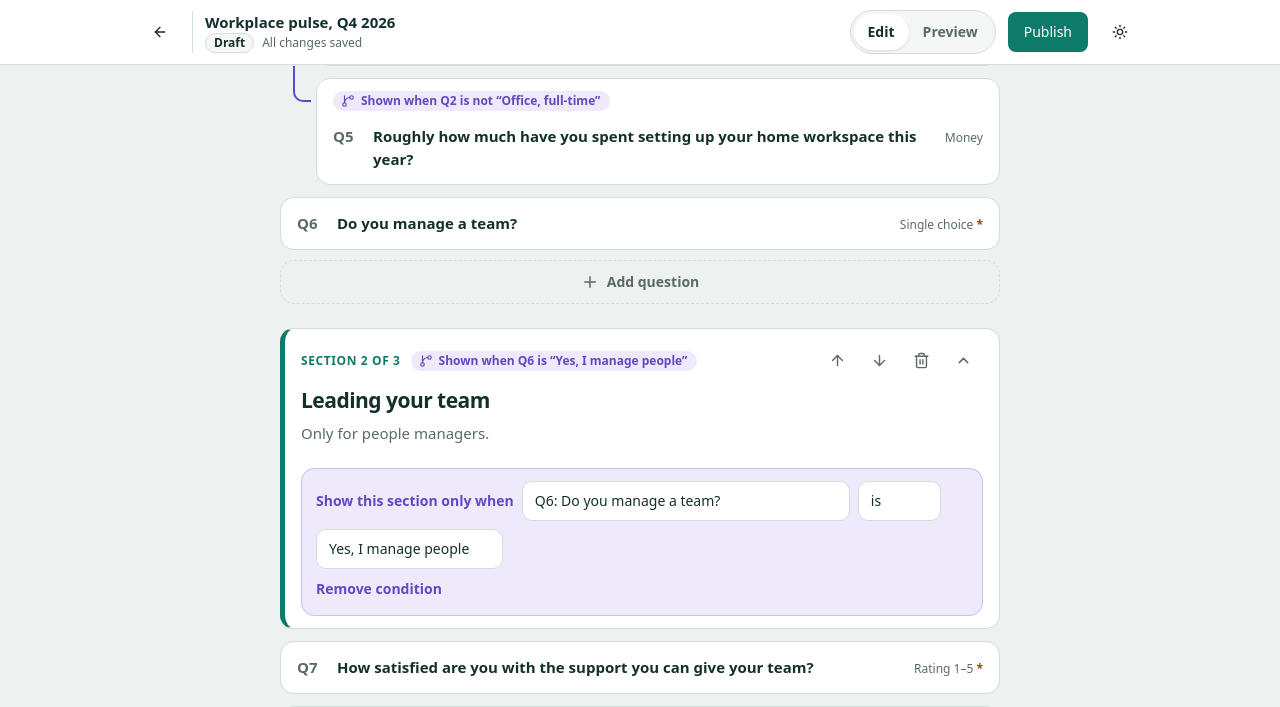
Test: builder with the sample loaded › deletes a section with Undo; its questions move up
(page scrolled)
Click the button named "Delete Leading your team". click: (921, 360)
box: left=901, top=340, right=941, bottom=380
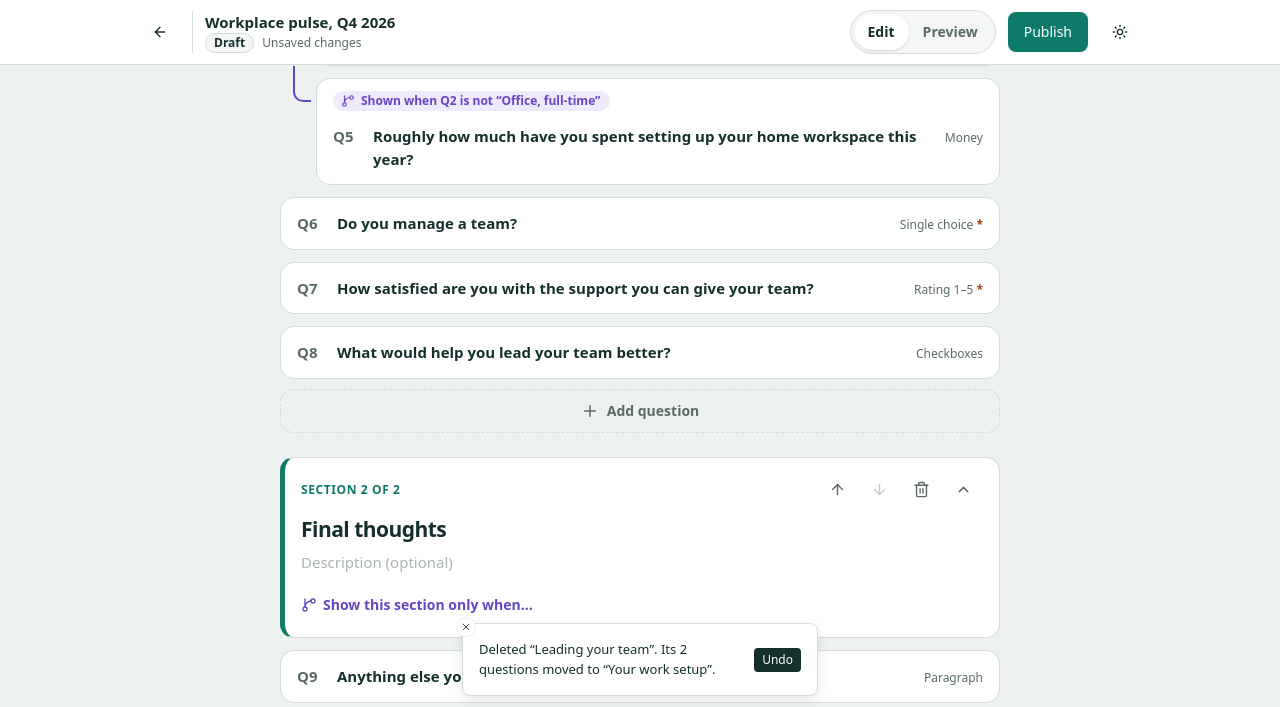
Expected: the text "Deleted “Leading your team”. Its 2 questions moved to “Your work setup”." is shown, left=479, top=640, right=748, bottom=679
Expected: the text "Section 2 of 2" is shown, left=301, top=482, right=400, bottom=498
Click the button "Undo". click: (778, 660)
box: left=754, top=648, right=801, bottom=672
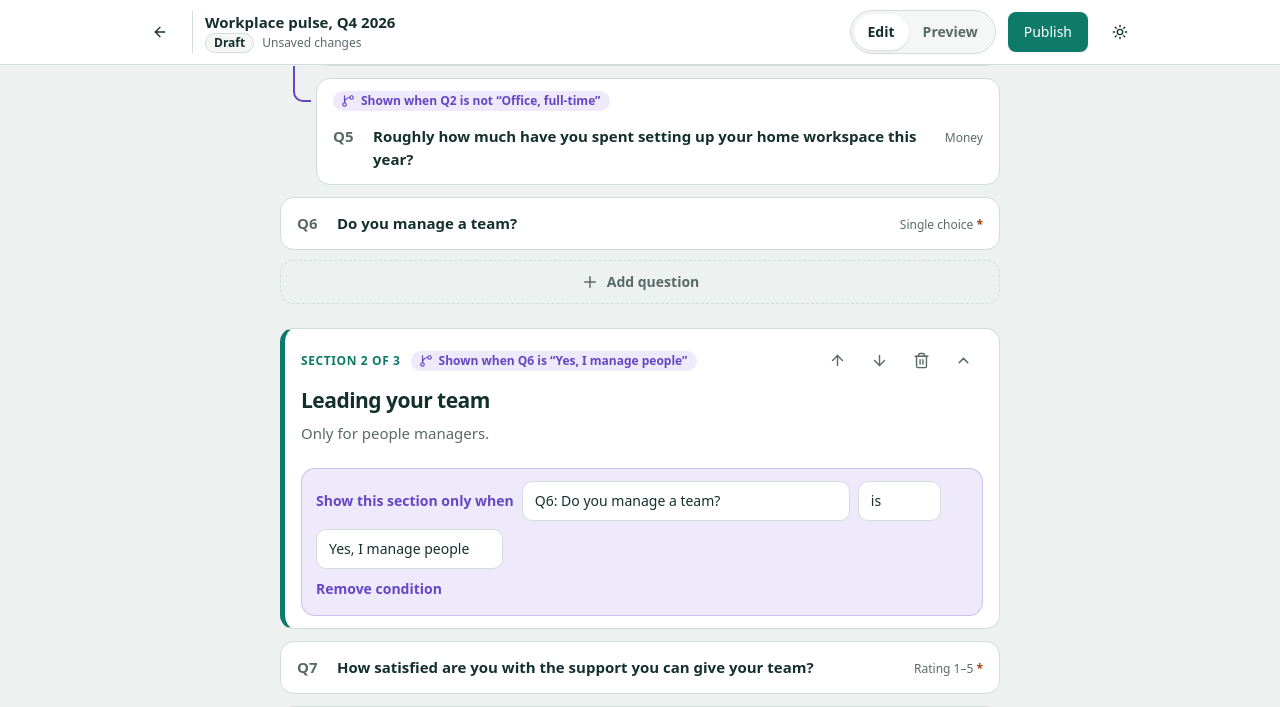
Expected: the text "Section 2 of 3" is shown, left=301, top=352, right=400, bottom=368
Expected: the field named "Section 2 title" holds "Leading your team", left=301, top=380, right=983, bottom=420
